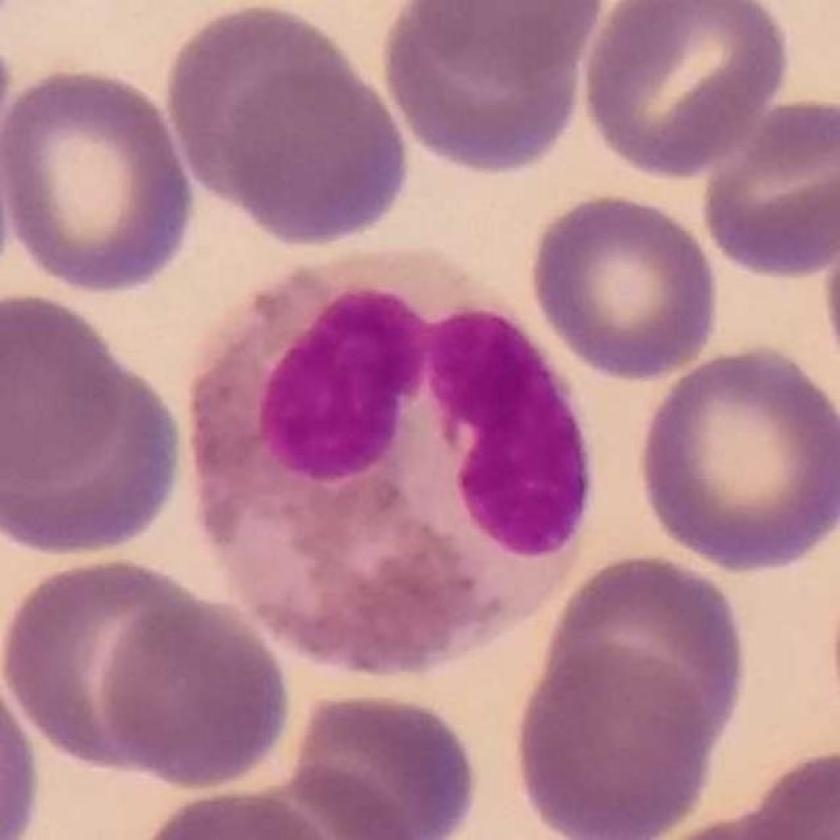eosinophil: (189, 247, 594, 684)
